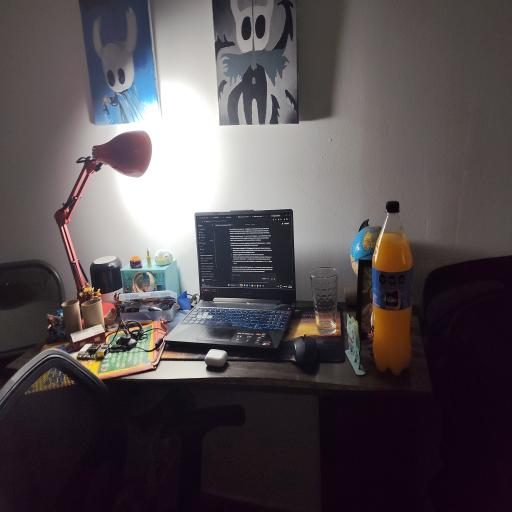Jugo del valle: (373, 201, 412, 375)
